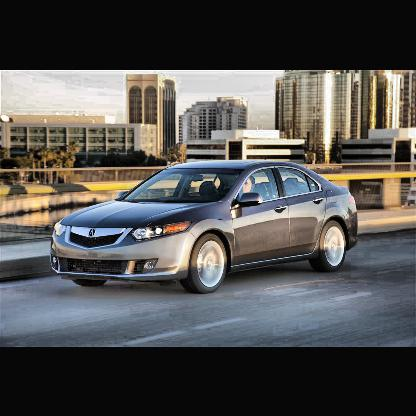Acura TSX Sedan 2012: (52, 163, 360, 294)
